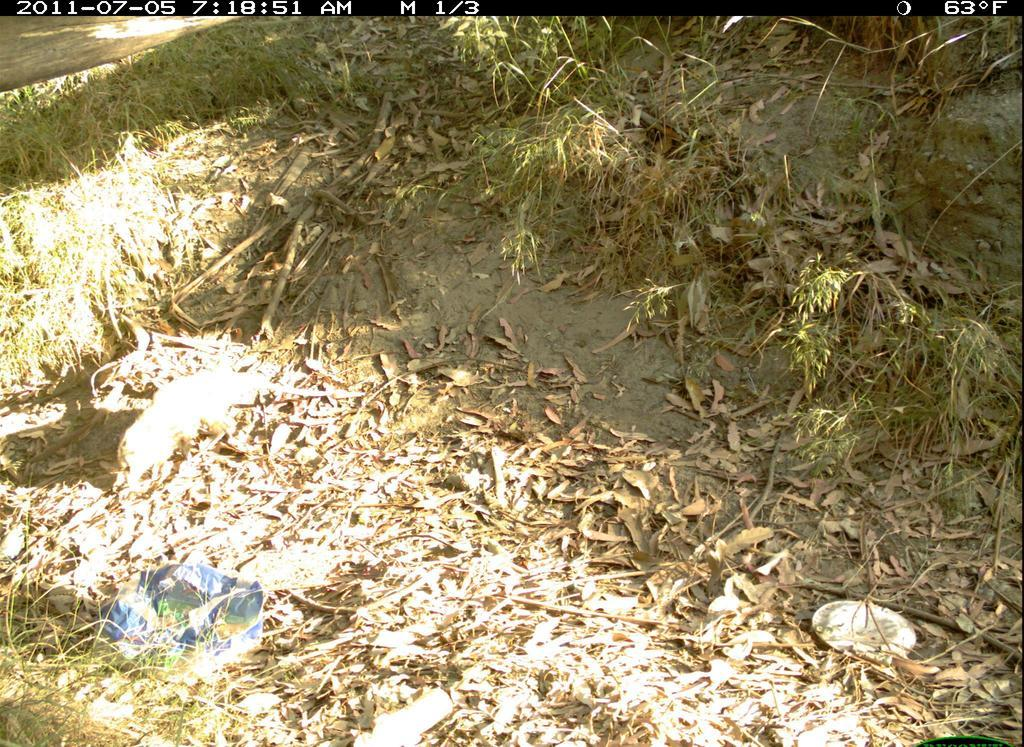opossum: (107, 360, 360, 493)
